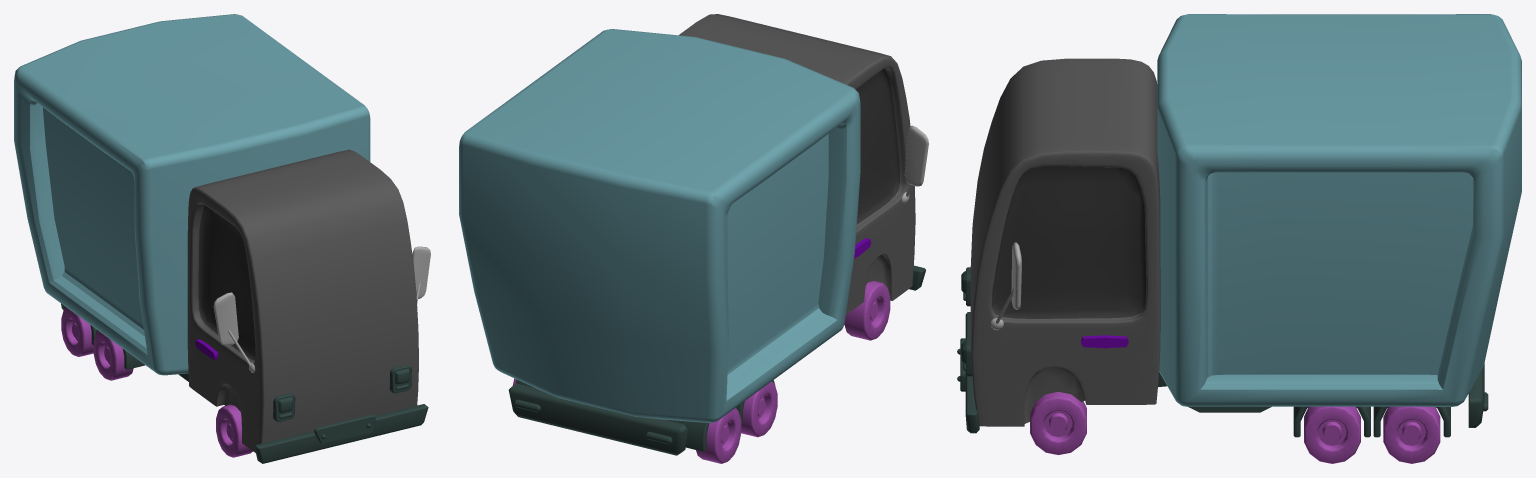
File: car.fbx
3 views of the same model, side by side, from view 1: azimuth 30°, elevation 25°; view 2: azimuth 150°, elevation 25°; view 3: azimuth 270°, elevation 25° (orthographic). The views are drawn at different scales.
Parts seen in each view (by area): view 1: Car; view 2: Car; view 3: Car.
Part boxes in pixels (left/top/right/bottom): Car: left=14, top=14, right=430, bottom=463; Car: left=459, top=14, right=928, bottom=463; Car: left=957, top=14, right=1521, bottom=463.
Size of the model in its own units: 846 by 953 by 1452.
